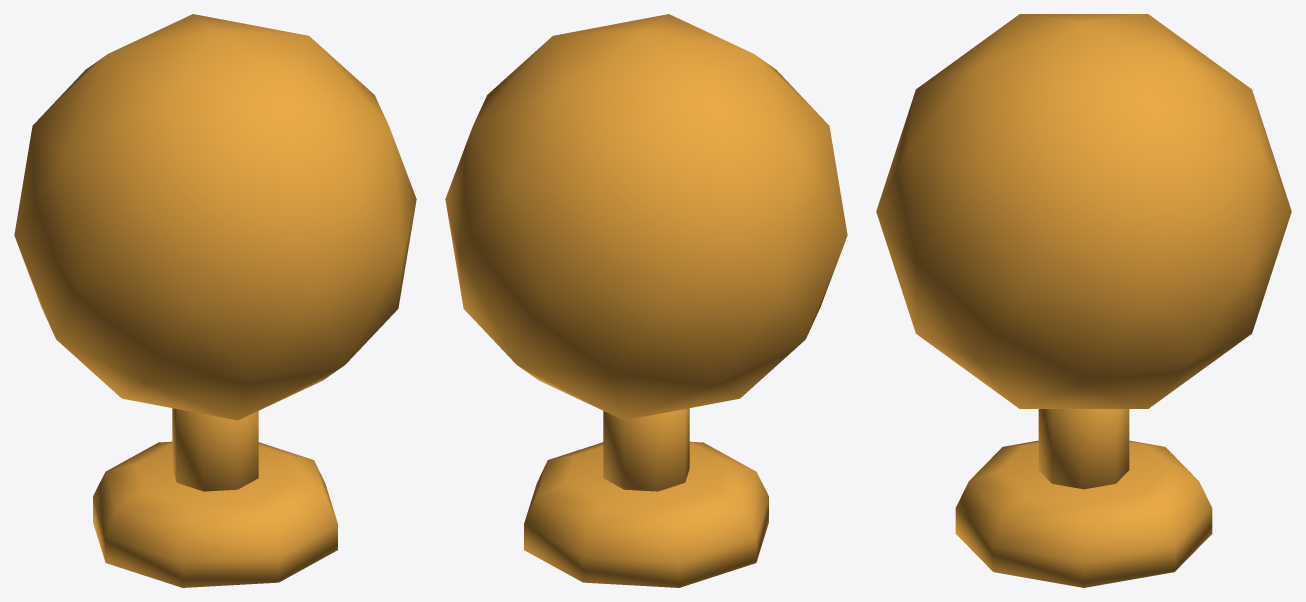
Rendered from pokal.fbx.
3 views of the same model, side by side, from view 1: azimuth 30°, elevation 25°; view 2: azimuth 150°, elevation 25°; view 3: azimuth 270°, elevation 25° (orthographic).
Parts seen in each view (by area): view 1: Pokal; view 2: Pokal; view 3: Pokal.
Part boxes in pixels (x1,y1,x2,y2): Pokal: (14,14,416,587); Pokal: (445,14,847,587); Pokal: (876,14,1291,587).
Size of the model in its own units: 190 by 271 by 200.
